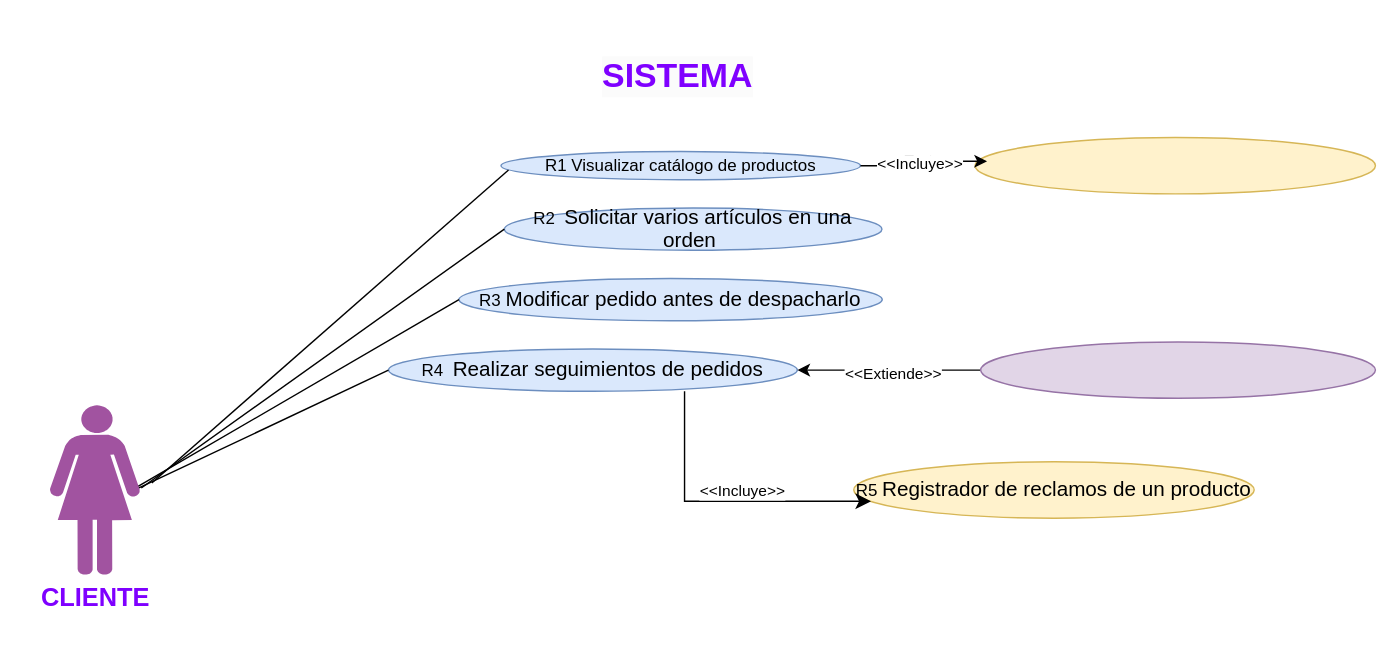
The diagram is 1400 pixels wide and 668 high, and some of its shapes have lost their labels. Here are the shapes that lost their labels. From the top down, the box of each, then its label:
(974, 136, 1375, 194): R6 Recibir notificaciones de promociones
(979, 341, 1375, 398): R7 Asistencia en tiempo real mediante chat
